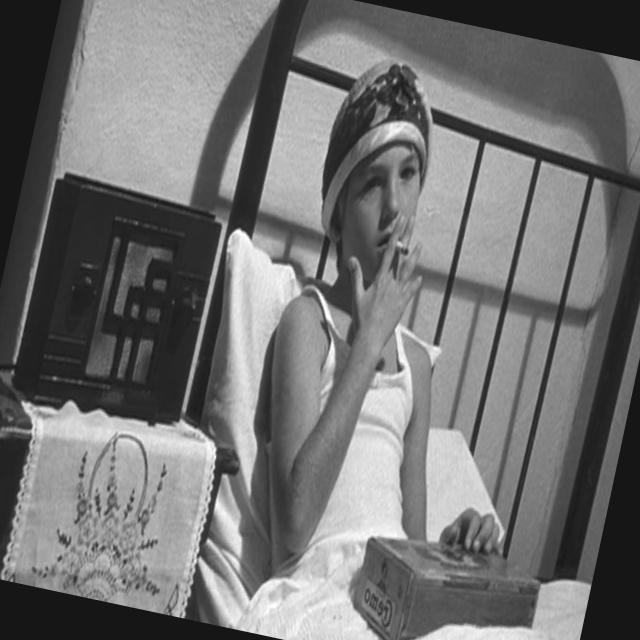smoke: (391, 235, 410, 268)
